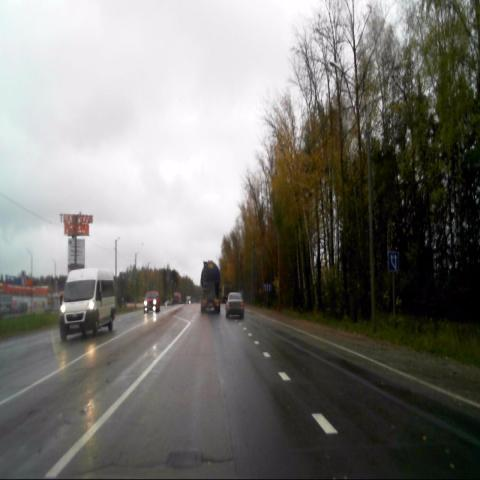5_15_3: (388, 250, 398, 271)
